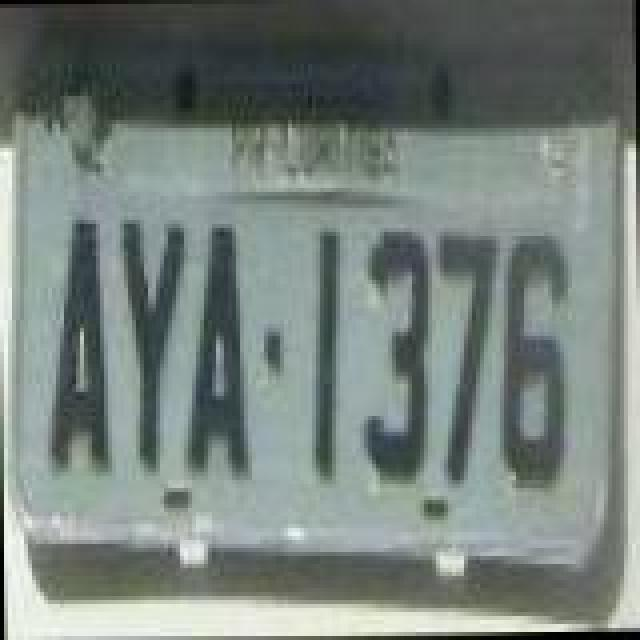1: (310, 226, 346, 490)
3: (358, 220, 434, 492)
6: (498, 224, 574, 496)
7: (434, 232, 502, 496)
A: (42, 216, 110, 480), (182, 220, 250, 484)
Y: (118, 214, 186, 478)
